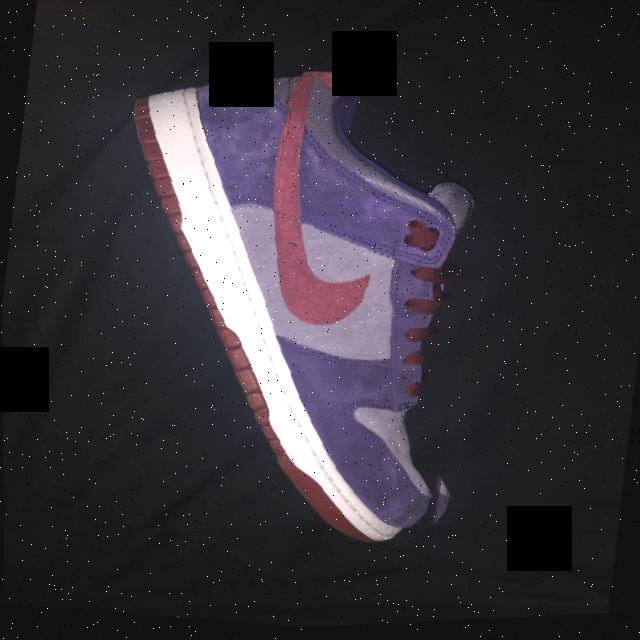shoe: (79, 41, 507, 568)
